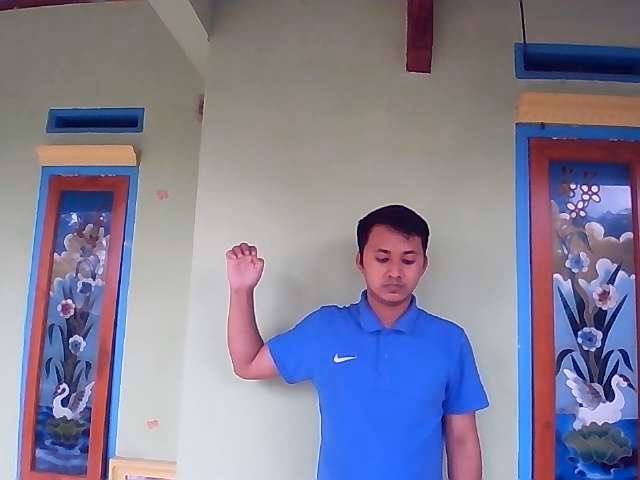E: (225, 242, 265, 291)
